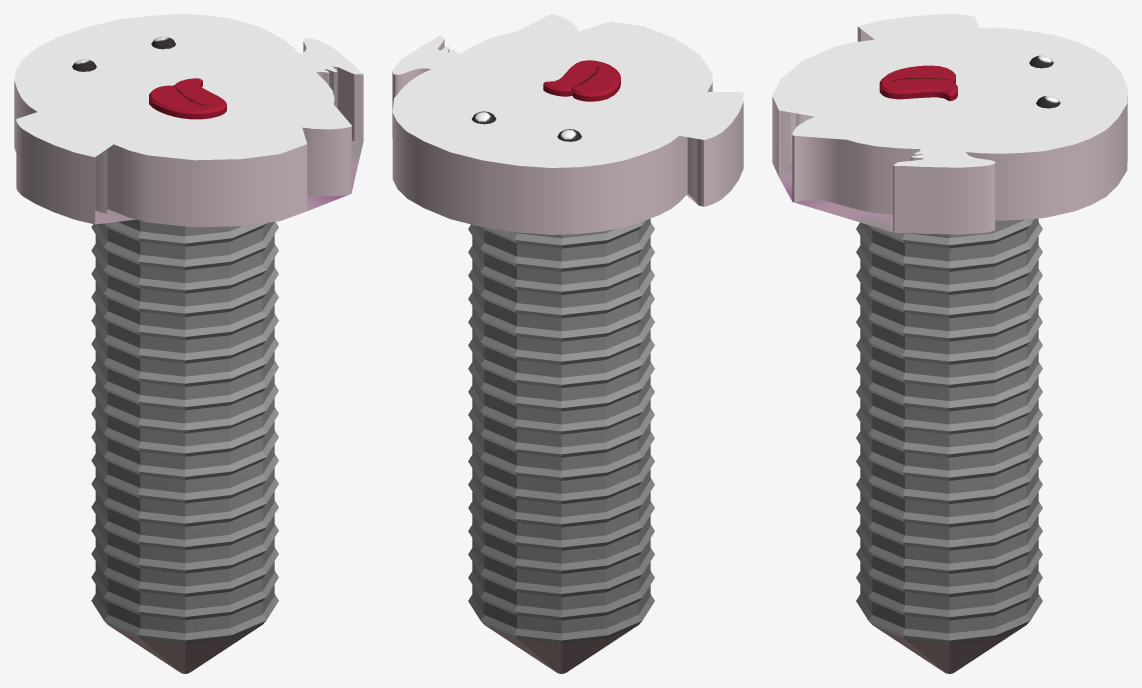
Rendered from ghost_screw.fbx.
3 views of the same model, side by side, from view 1: azimuth 30°, elevation 25°; view 2: azimuth 150°, elevation 25°; view 3: azimuth 270°, elevation 25° (orthographic).
Visible parts, largest first — view 1: ghost_screw; view 2: ghost_screw; view 3: ghost_screw.
Boxes of the visible parts, box(x1,y1,x2,y2) form: ghost_screw: box(14, 14, 363, 673); ghost_screw: box(392, 14, 743, 673); ghost_screw: box(772, 14, 1127, 673).
Bounding box in the file's own units: 78.23 × 140 × 76.45.
